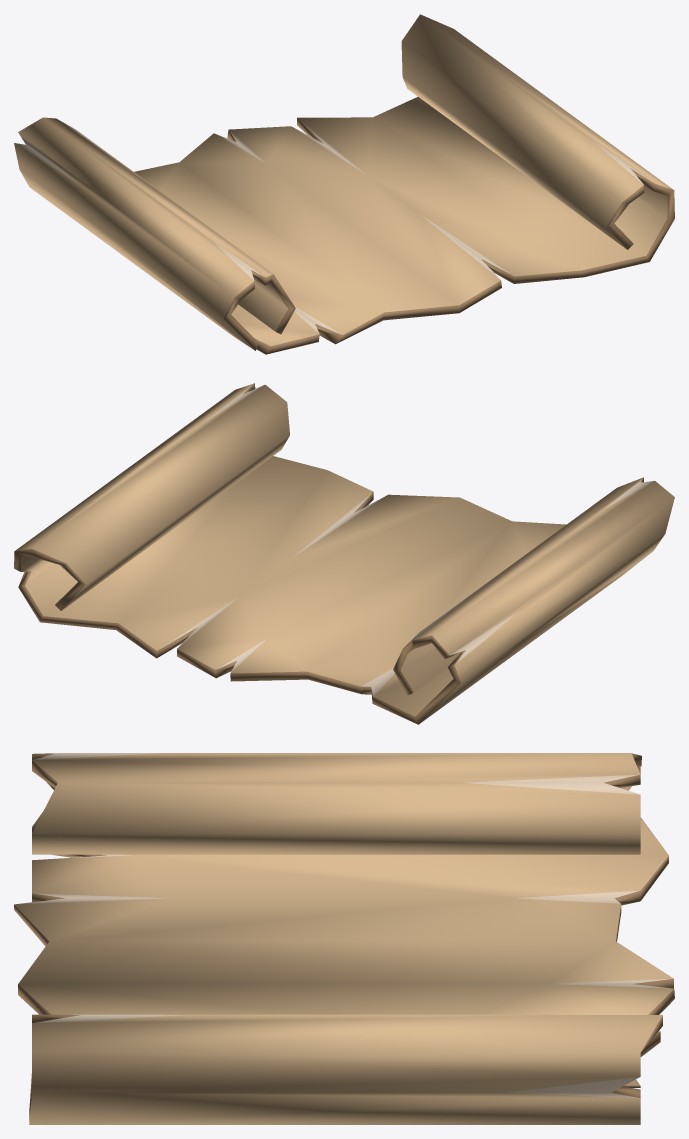
File: Map_02.glb
3 renders of one model, top to bottom at view 1: azimuth 30°, elevation 25°; view 2: azimuth 150°, elevation 25°; view 3: azimuth 270°, elevation 25°, orthographic. The views are drawn at different scales.
Visible parts, largest first — view 1: Map_02; view 2: Map_02; view 3: Map_02.
Part boxes in pixels (box(x1,y1,x2,y2)): Map_02: box(14, 14, 674, 354); Map_02: box(14, 383, 674, 724); Map_02: box(14, 753, 674, 1124).
Size of what is drawn, in the model's own units: 0.6507 by 0.1135 by 0.6119.
1 material, 1 textured.
